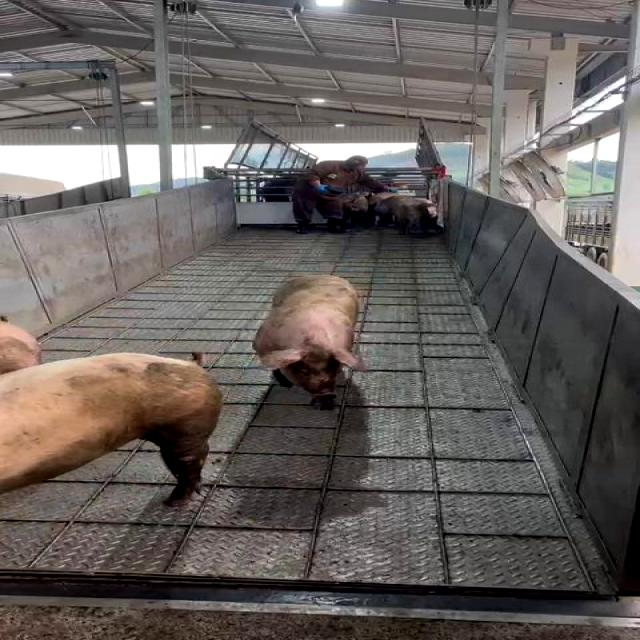pig: (0, 352, 222, 506), (254, 275, 367, 409)
